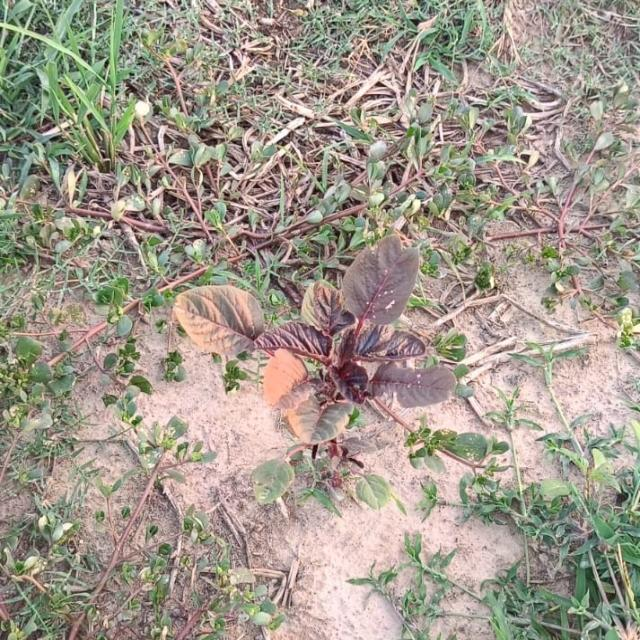plant: (176, 236, 455, 445)
